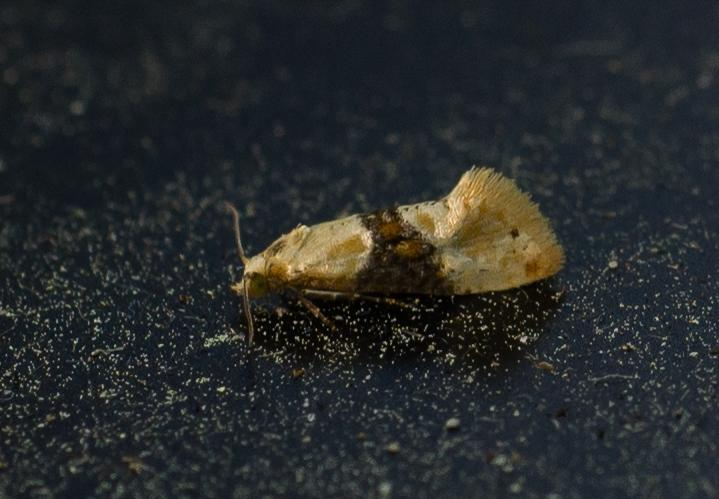Eupoecilia Ambiguella: (219, 161, 568, 349)
